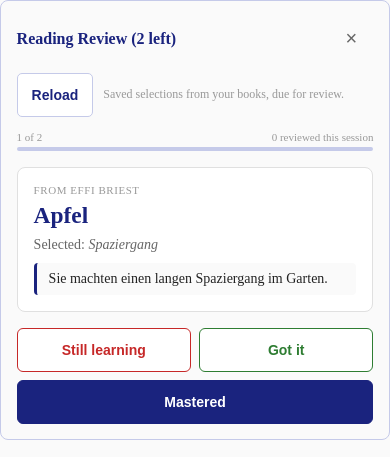
it: ReadingReviewPage › advances to the next selection after submit
The width and height of the screenshot is (390, 457).
Expected: the text with test id "reading-review-canonical" reads "Apfel", [34,202,88,228]
Click the button with test id "reading-review-got-it": (286, 350) [199,328,373,372]
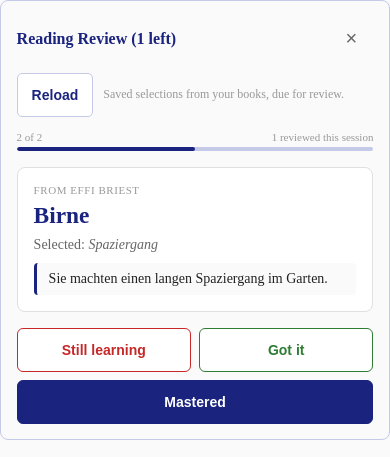
Result: the text with test id "reading-review-canonical" reads "Birne" at [34,202,90,228]
